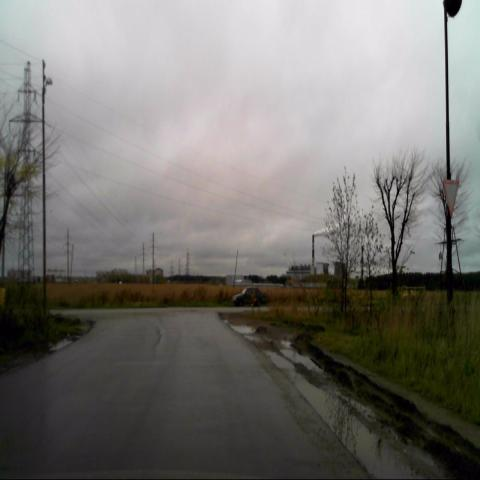2_4: (443, 179, 459, 218)
